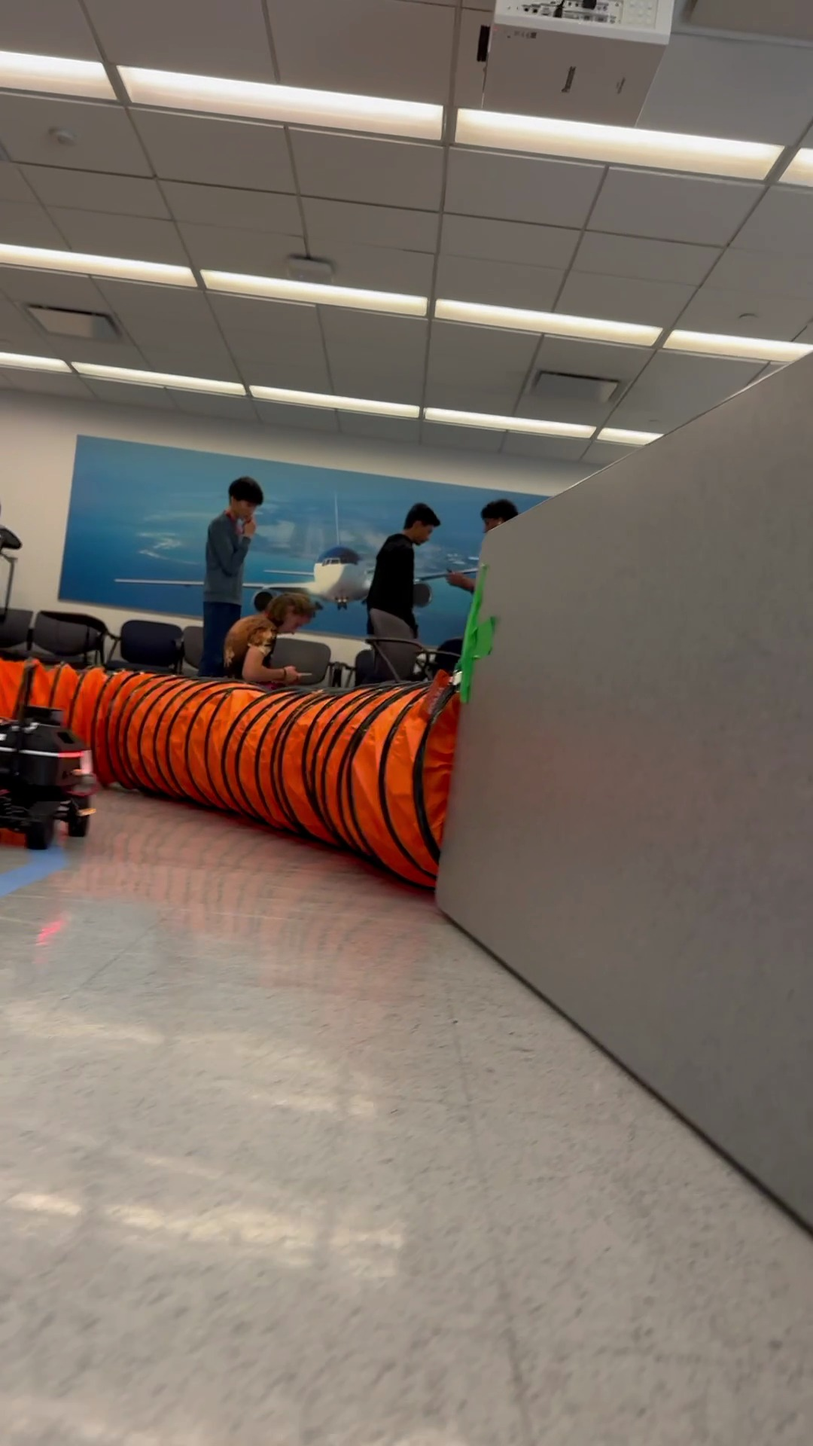racecar: (0, 698, 96, 849)
